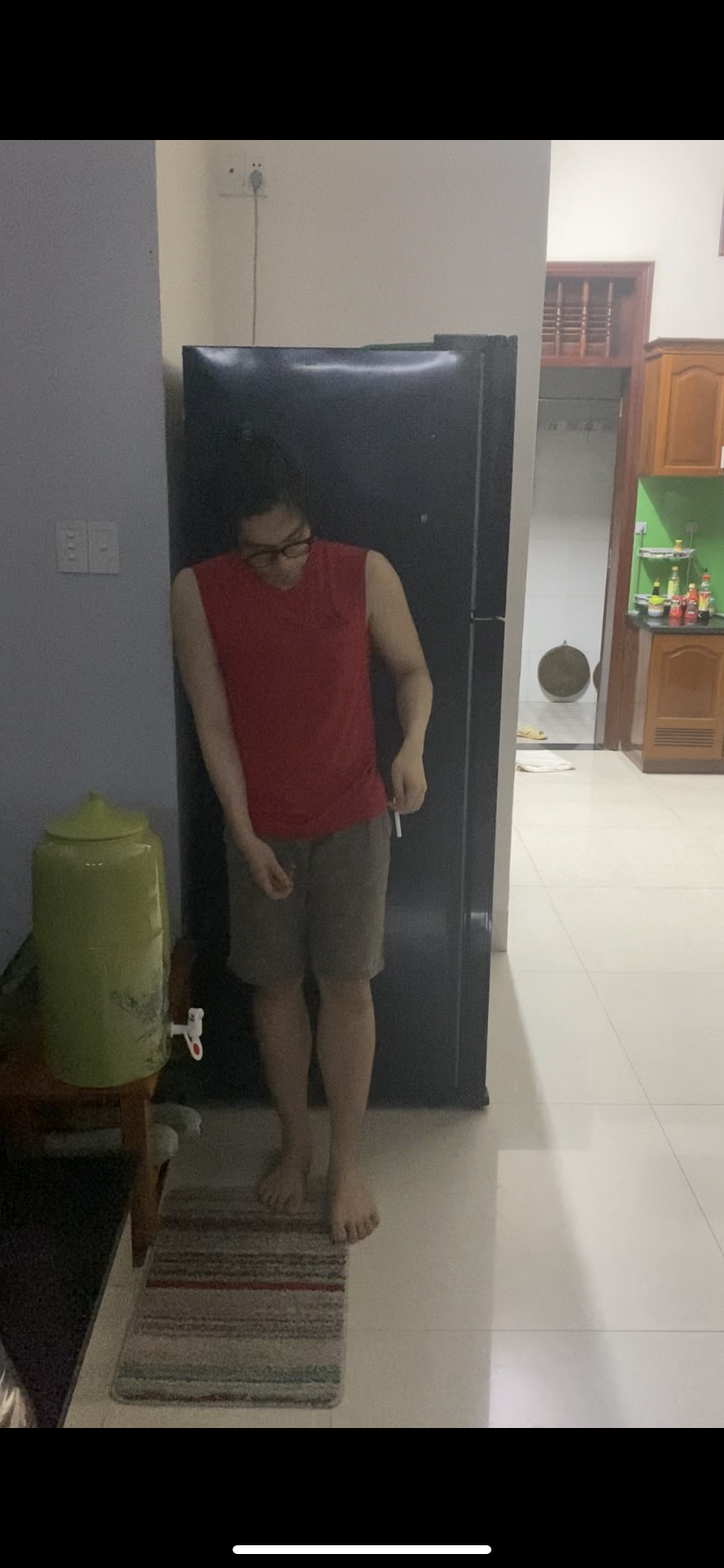cigarette: (389, 809, 407, 844)
person: (171, 376, 444, 1274)
